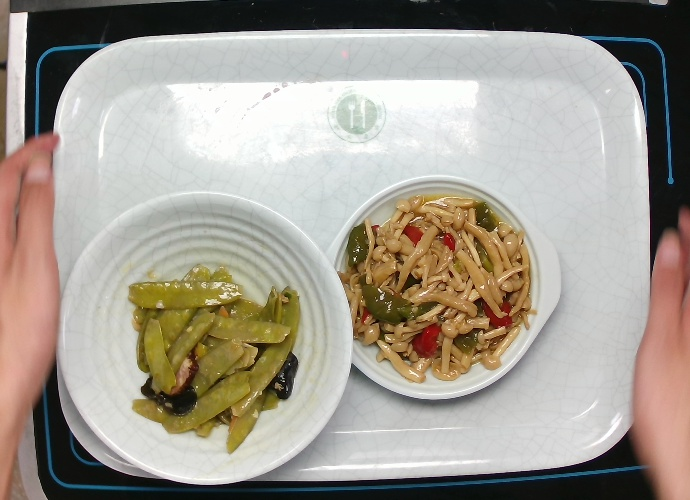JYsf-Shuang_Er_Pan: (316, 170, 569, 406)
JYsf-Xiao_Tang_Wan: (50, 188, 353, 482)
